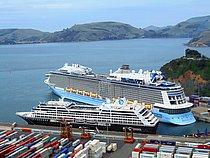Ship: (43, 60, 202, 129), (14, 96, 165, 136)
